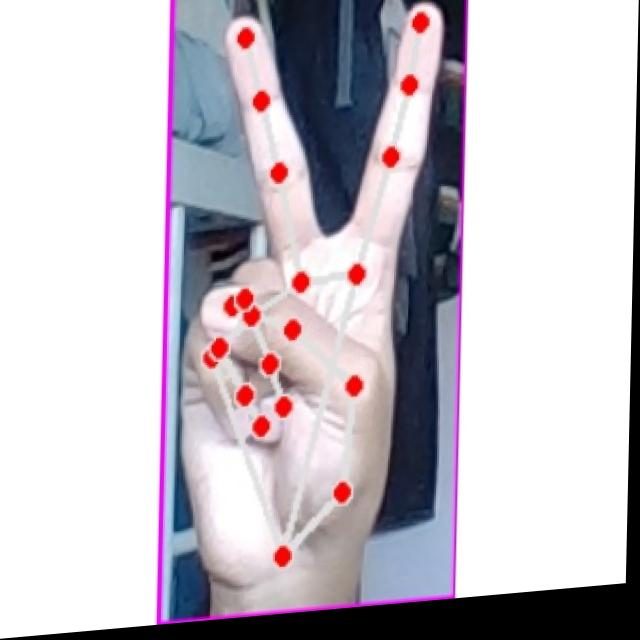V: (175, 0, 446, 583)
